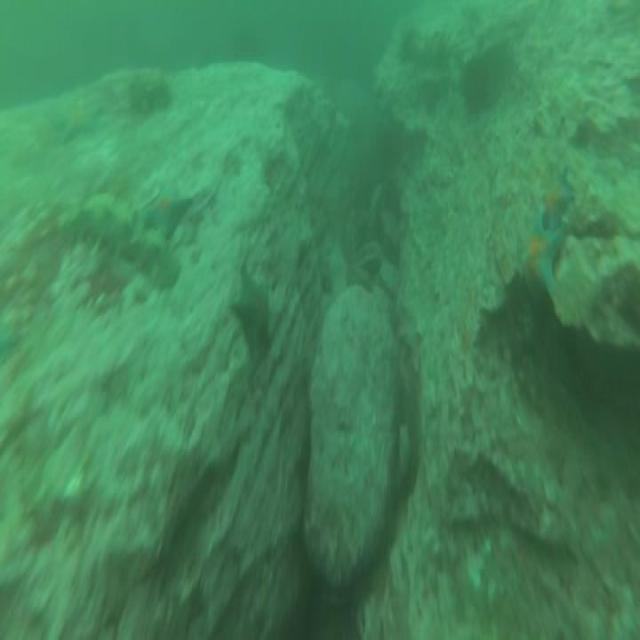echinus: (457, 54, 496, 123)
holothurian: (66, 193, 177, 295), (126, 70, 172, 119)
starfish: (229, 259, 274, 364), (519, 212, 567, 302), (143, 186, 198, 242), (534, 161, 576, 234), (53, 95, 106, 147)
